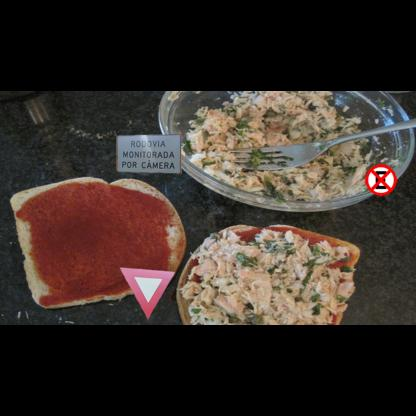I-E: (116, 134, 181, 174)
R-2: (120, 267, 175, 320)
R-6c: (365, 164, 397, 196)
